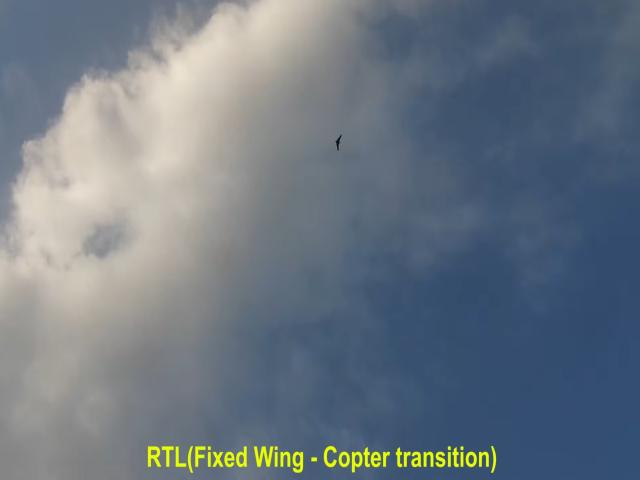plane: (333, 135, 345, 151)
